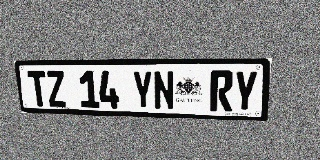1: (78, 71, 100, 108)
4: (98, 71, 119, 109)
N: (153, 71, 175, 110)
R: (210, 71, 234, 112)
T: (27, 71, 49, 107)
Y: (233, 71, 258, 112), (132, 71, 153, 109)
Z: (45, 71, 67, 107)
